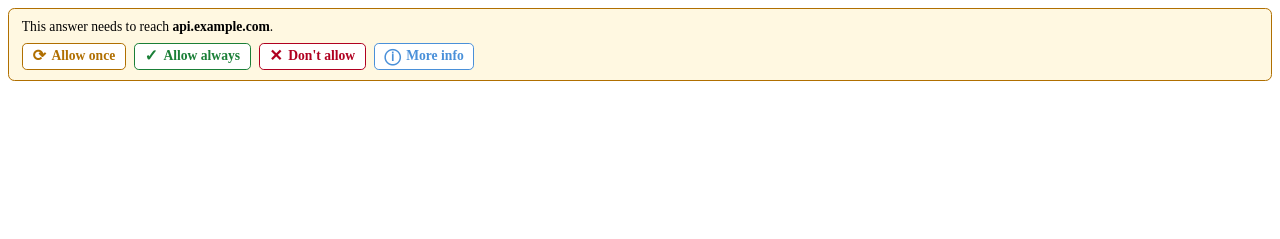
Test: 'More info' toggles the details panel (no resolve)
Click the button with test id "egress-more-info" at [424, 56], box [374, 43, 474, 70]
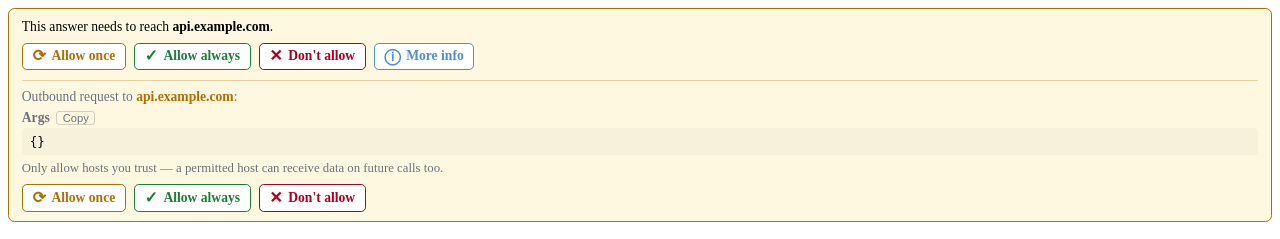
Now the element with test id "egress-details" is shown, box [22, 80, 1258, 212]
